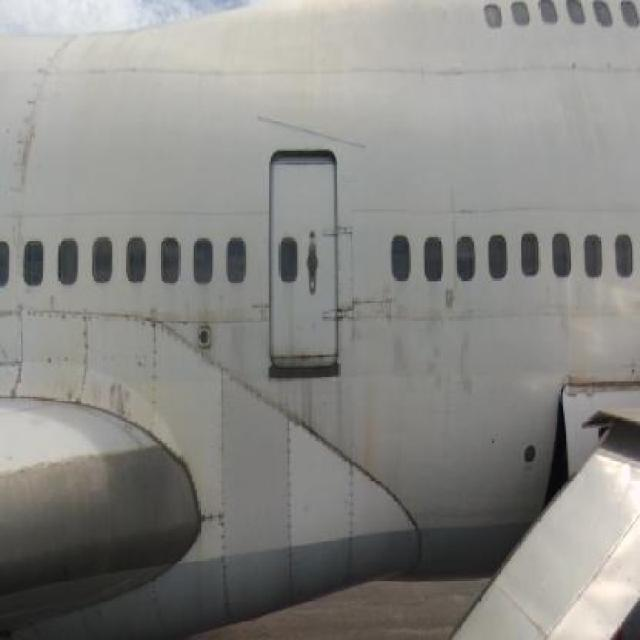Missing-Rivet: (205, 352, 246, 630), (43, 291, 197, 352), (275, 405, 307, 600), (2, 306, 38, 408), (345, 444, 361, 588)
Rust: (438, 279, 477, 410), (355, 321, 382, 482)
Scartch: (6, 43, 80, 212), (48, 355, 170, 436)
